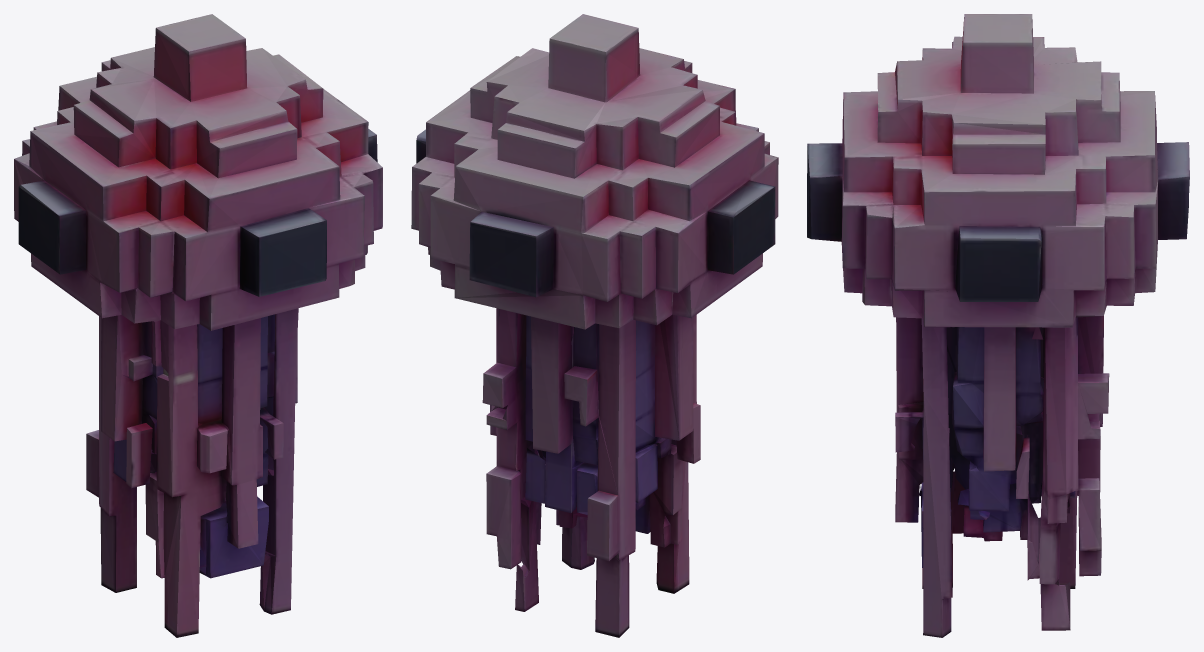
Rendered from jellyfish.glb.
The picture shows the model from 3 angles, left to right: view 1: azimuth 30°, elevation 25°; view 2: azimuth 150°, elevation 25°; view 3: azimuth 270°, elevation 25°; orthographic projection. The views are drawn at different scales.
Visible parts, largest first — view 1: geometry_0; view 2: geometry_0; view 3: geometry_0.
Boxes of the visible parts, box(x1,y1,x2,y2) form: geometry_0: box(14, 14, 382, 637); geometry_0: box(411, 14, 778, 637); geometry_0: box(807, 14, 1189, 637).
Bounding box in the file's own units: 0.5942 × 1 × 0.5977.
1 material, 1 textured.
